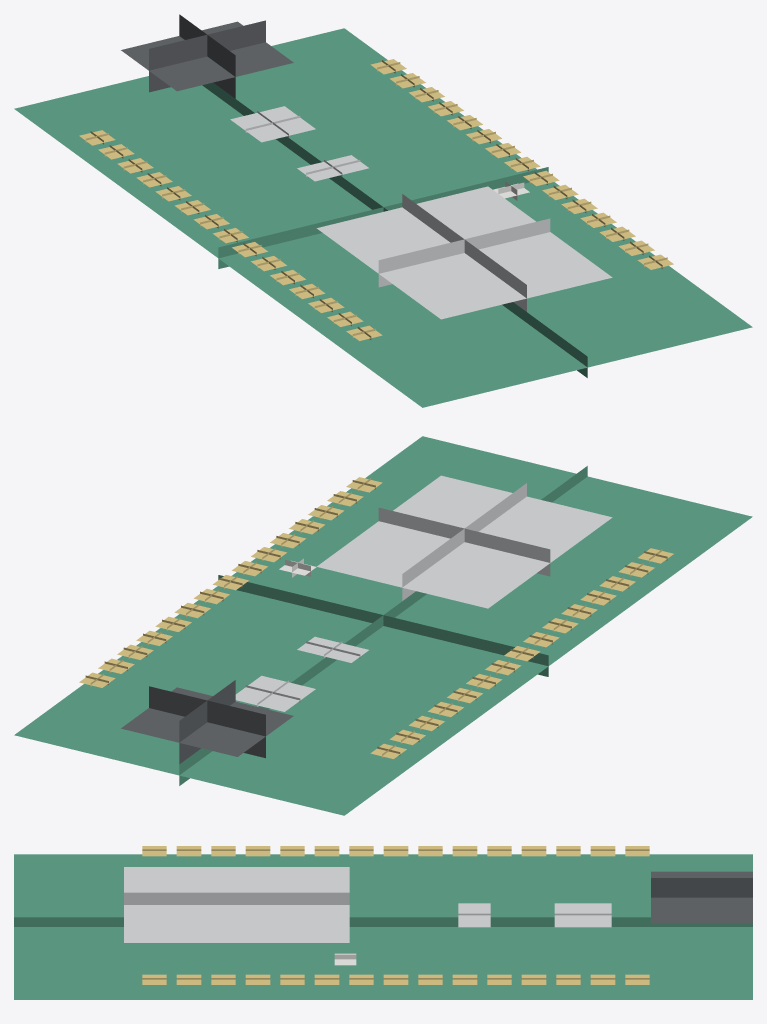
The model's file is c3-devkit-v1.gltf.
The picture shows the model from 3 angles, top to bottom: view 1: azimuth 30°, elevation 25°; view 2: azimuth 150°, elevation 25°; view 3: azimuth 270°, elevation 25°; orthographic projection. The views are drawn at different scales.
Parts seen in each view (by area): view 1: board.body; view 2: board.body; view 3: board.body.
Part boxes in pixels (x1,y1,x2,y2): board.body: [14, 14, 752, 407]; board.body: [14, 436, 752, 815]; board.body: [14, 846, 752, 999].
Size of the model in its own units: 25.4 by 4.8 by 54.4.
